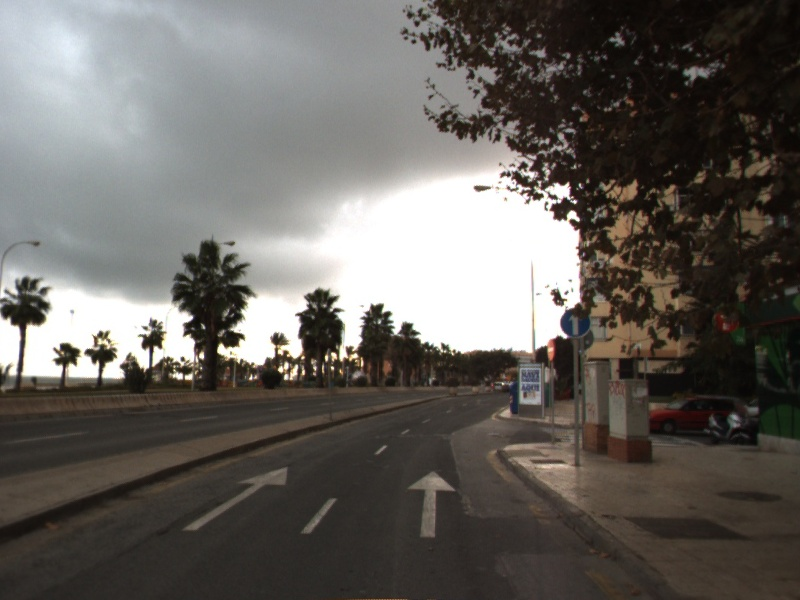STRAIGHT: (180, 465, 289, 532), (406, 469, 458, 539)
